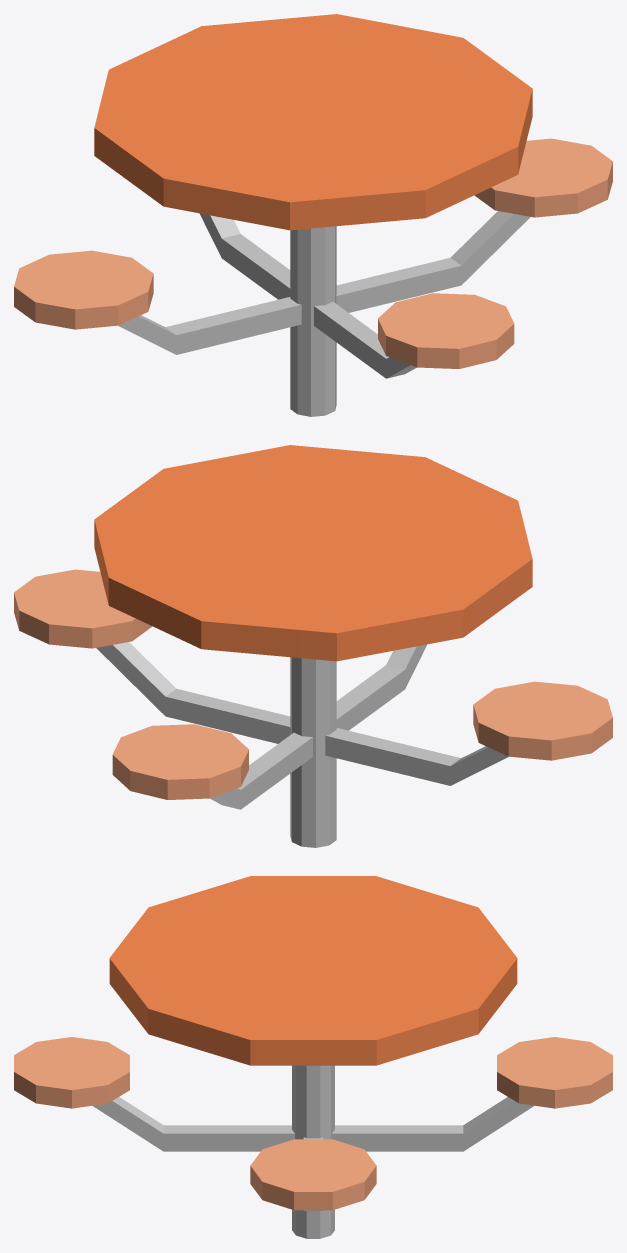
The model's file is banghe.fbx.
3 views of the same model, one above another, from view 1: azimuth 30°, elevation 25°; view 2: azimuth 150°, elevation 25°; view 3: azimuth 270°, elevation 25° (orthographic). The views are drawn at different scales.
Parts seen in each view (by area): view 1: banghe; view 2: banghe; view 3: banghe.
Part boxes in pixels (bbox=[...]): banghe: bbox=[14, 14, 612, 416]; banghe: bbox=[14, 445, 612, 847]; banghe: bbox=[14, 876, 612, 1238].
Bounding box in the file's own units: 308 × 152 × 304.
1 material, 1 textured.
